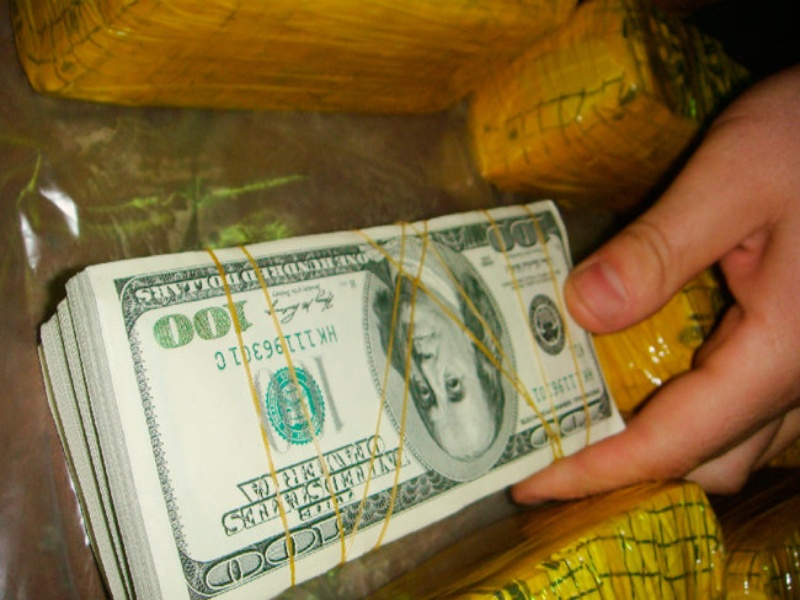cash: (37, 199, 627, 600)
